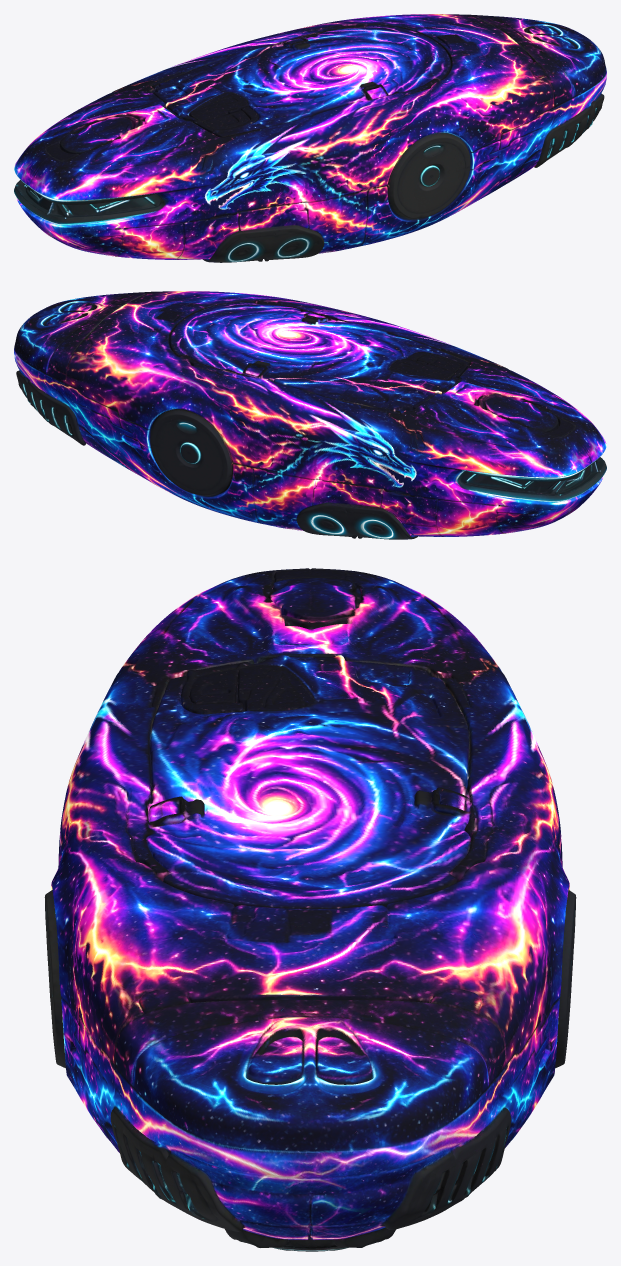
File: starpod_galaxy_v4.glb
The picture shows the model from 3 angles, top to bottom: view 1: azimuth 30°, elevation 25°; view 2: azimuth 150°, elevation 25°; view 3: azimuth 270°, elevation 25°; orthographic projection. The views are drawn at different scales.
Size of the model in its own units: 1.9 by 0.4714 by 0.7769.
Materials: 1 (1 with a texture image).
